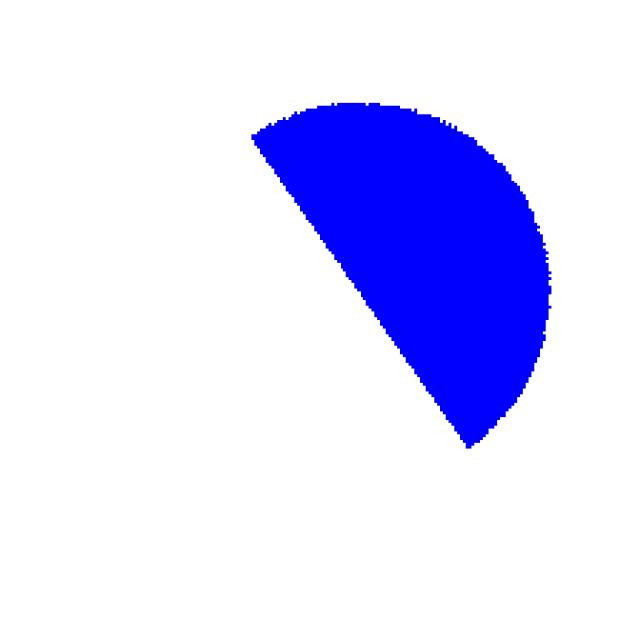Semicircle: (222, 67, 592, 489)
